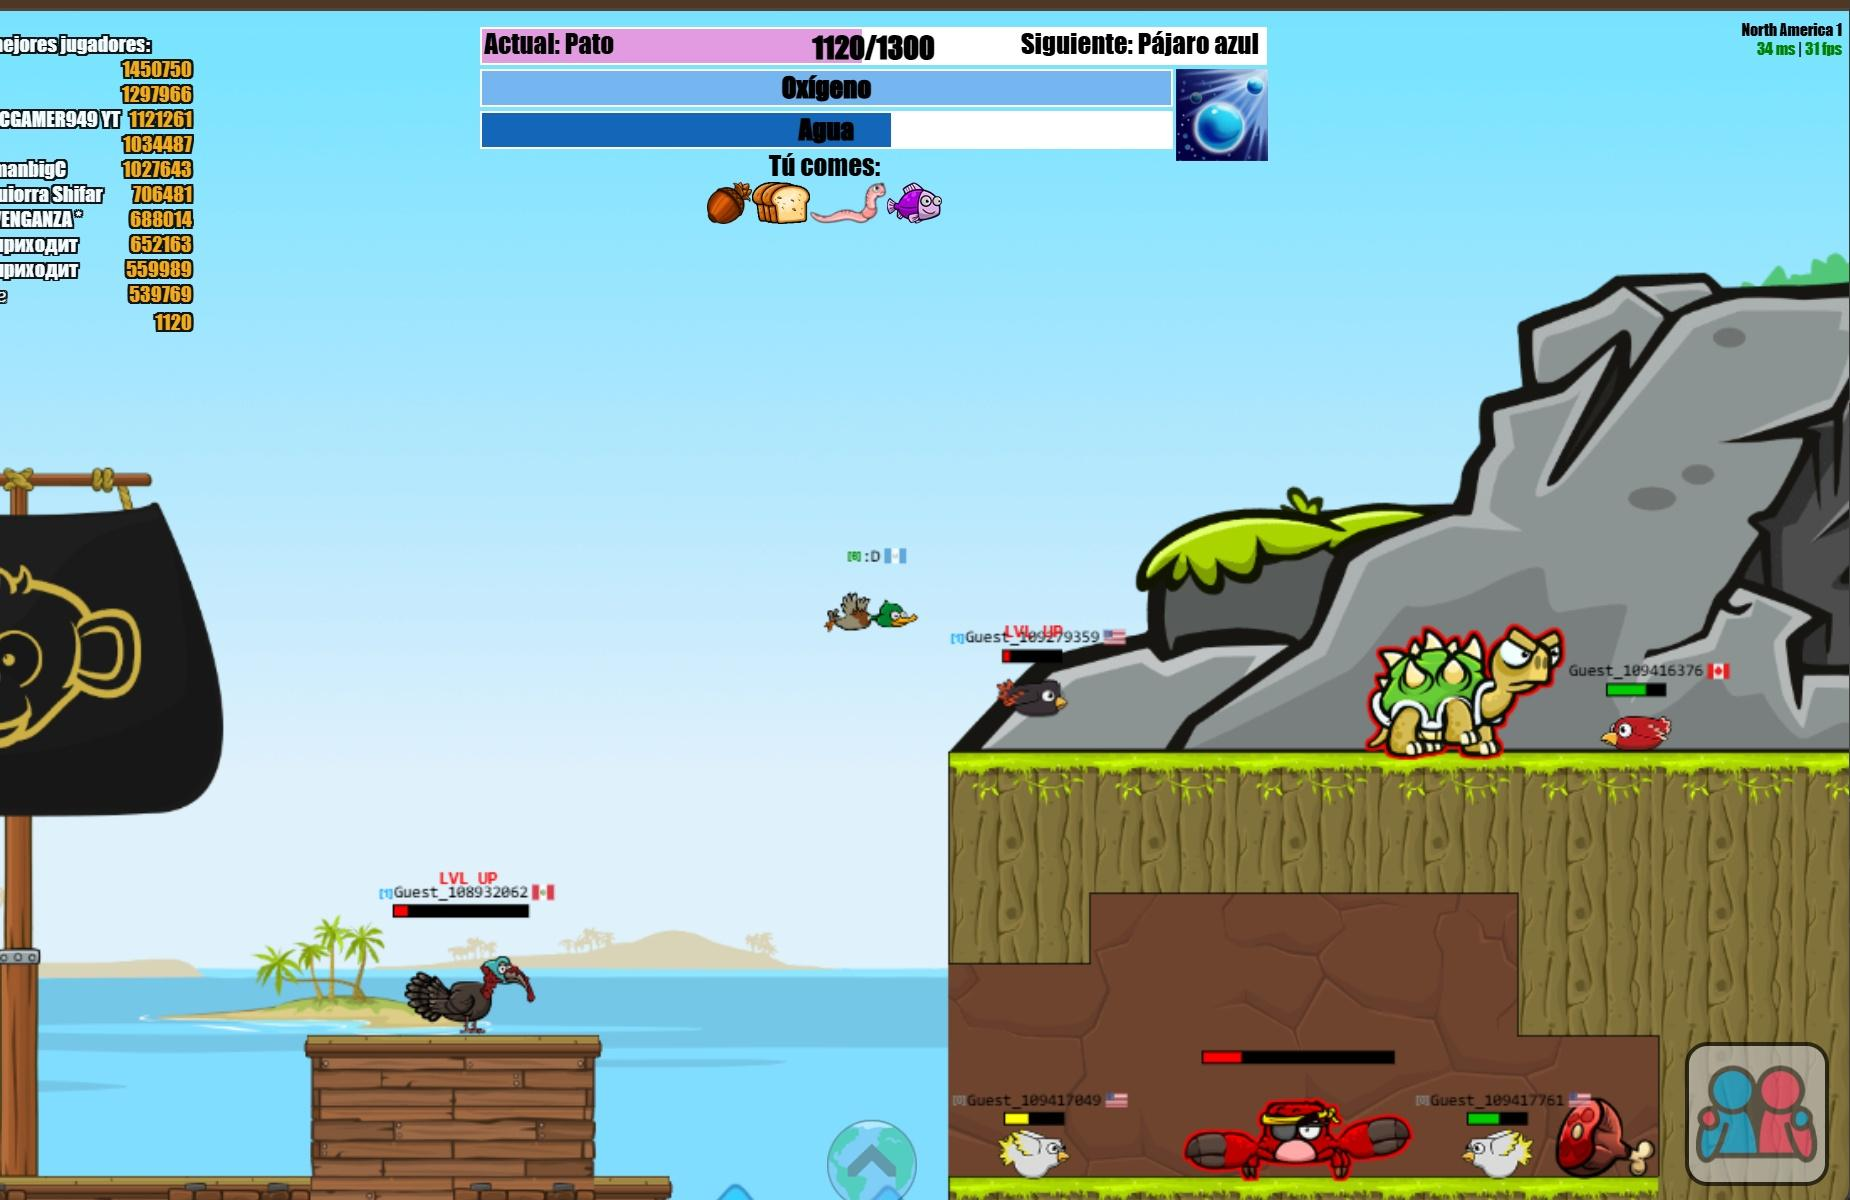avellana: (705, 178, 750, 224)
cangrejo: (1195, 1098, 1406, 1178)
carne: (1556, 1092, 1650, 1176)
gaviota: (1463, 1127, 1530, 1176), (999, 1133, 1067, 1177)
gusano: (812, 178, 887, 221)
mirlo: (998, 669, 1075, 723)
p_rojo: (1605, 712, 1672, 747)
pan: (751, 173, 804, 225)
pato: (823, 587, 917, 634)
pavo: (403, 952, 541, 1036)
pez: (890, 178, 943, 222)
suelo: (953, 760, 1841, 879)
tortuga: (1363, 623, 1559, 758)
vida: (1201, 1044, 1398, 1067), (386, 899, 527, 922), (998, 1108, 1073, 1124), (1464, 1110, 1529, 1127)
